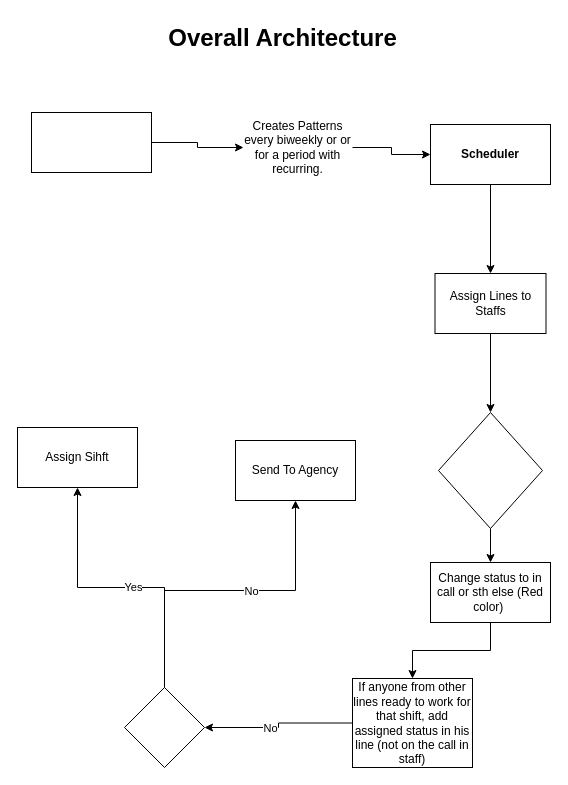
Some shapes in this 568 by 785 pixel diagram are drawn without their labels. Here are the shapes that lost their labels. From the top down, the box of each, then its label:
(30, 112, 152, 172): Super Admin - Home
(438, 412, 542, 528): If Someone Call Ins/ Vacation
(124, 686, 204, 768): If casual Staff avaibale
